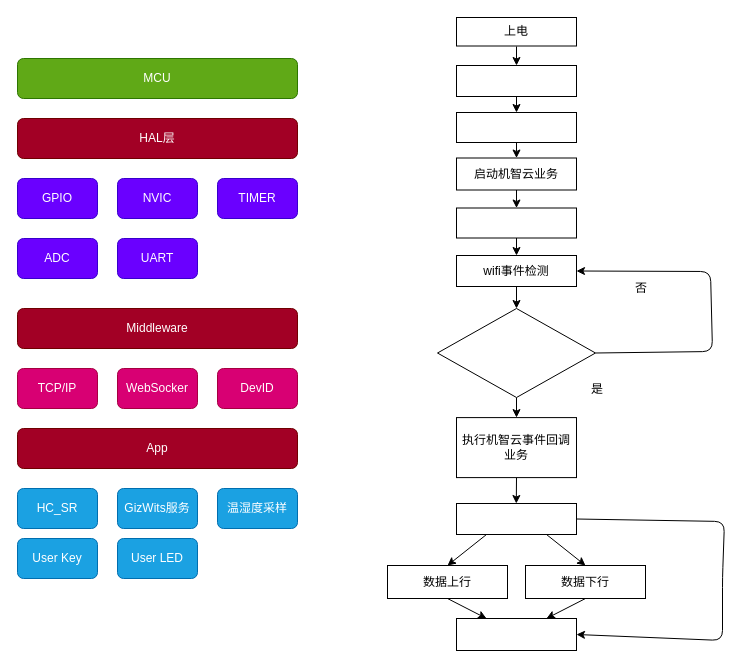
This 750x668 diagram has some shape labels left out. The shapes that lost their labels are listed below. From the top down, each one's box as (x1, y1, x2, y2) in pixels, then its label:
(456, 64, 576, 96): MCU启动
(456, 112, 576, 142): 初始化外设
(456, 207, 576, 238): 初始化传感器
(436, 308, 596, 398): 是否有连接WebSocket
(456, 502, 576, 534): 数据采样
(456, 618, 576, 650): 处理事件状态
